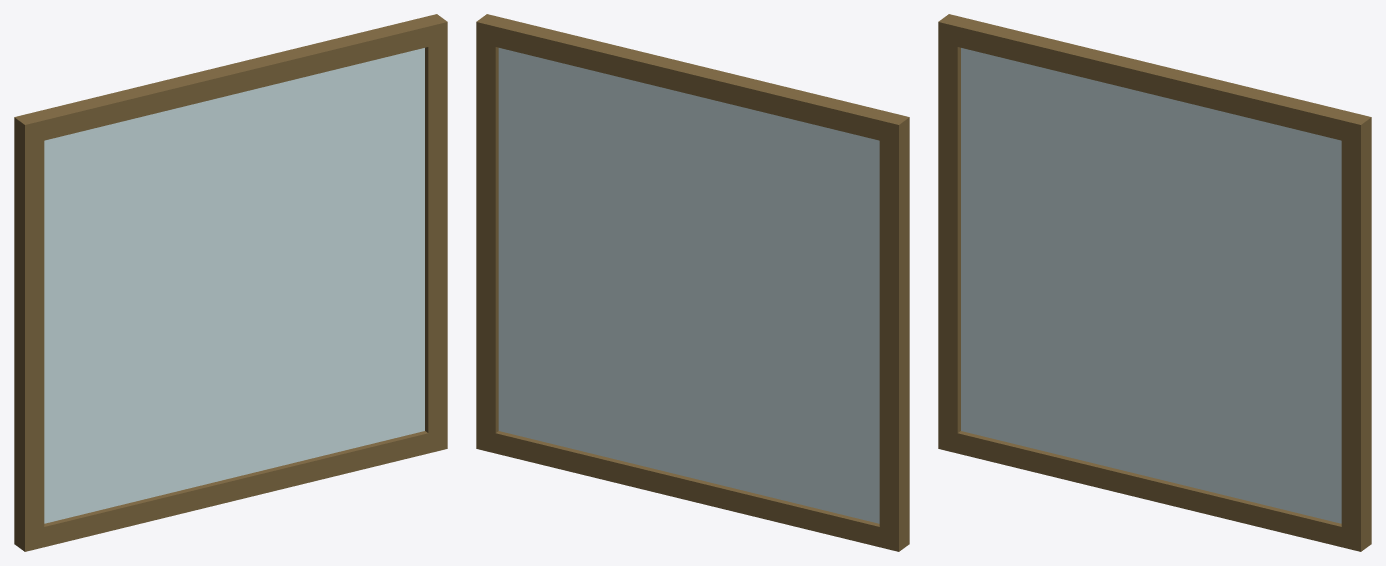
File: Itr_Obj_Grandfatherclock2_Glass_Small_01.FBX
The picture shows the model from 3 angles, left to right: view 1: azimuth 30°, elevation 25°; view 2: azimuth 150°, elevation 25°; view 3: azimuth 330°, elevation 25°; orthographic projection.
Parts seen in each view (by area): view 1: Itr_Obj_Grandfatherclock2_Glass_Small_01; view 2: Itr_Obj_Grandfatherclock2_Glass_Small_01; view 3: Itr_Obj_Grandfatherclock2_Glass_Small_01.
Boxes of the visible parts, bbox=[...] form: Itr_Obj_Grandfatherclock2_Glass_Small_01: bbox=[14, 14, 447, 551]; Itr_Obj_Grandfatherclock2_Glass_Small_01: bbox=[476, 14, 909, 551]; Itr_Obj_Grandfatherclock2_Glass_Small_01: bbox=[938, 14, 1371, 551].
Bounding box in the file's own units: 15.68 × 15.13 × 0.694.
